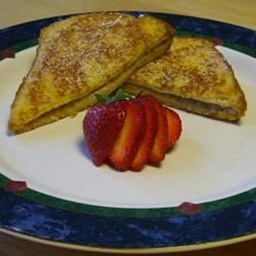background: (3, 4, 99, 69)
